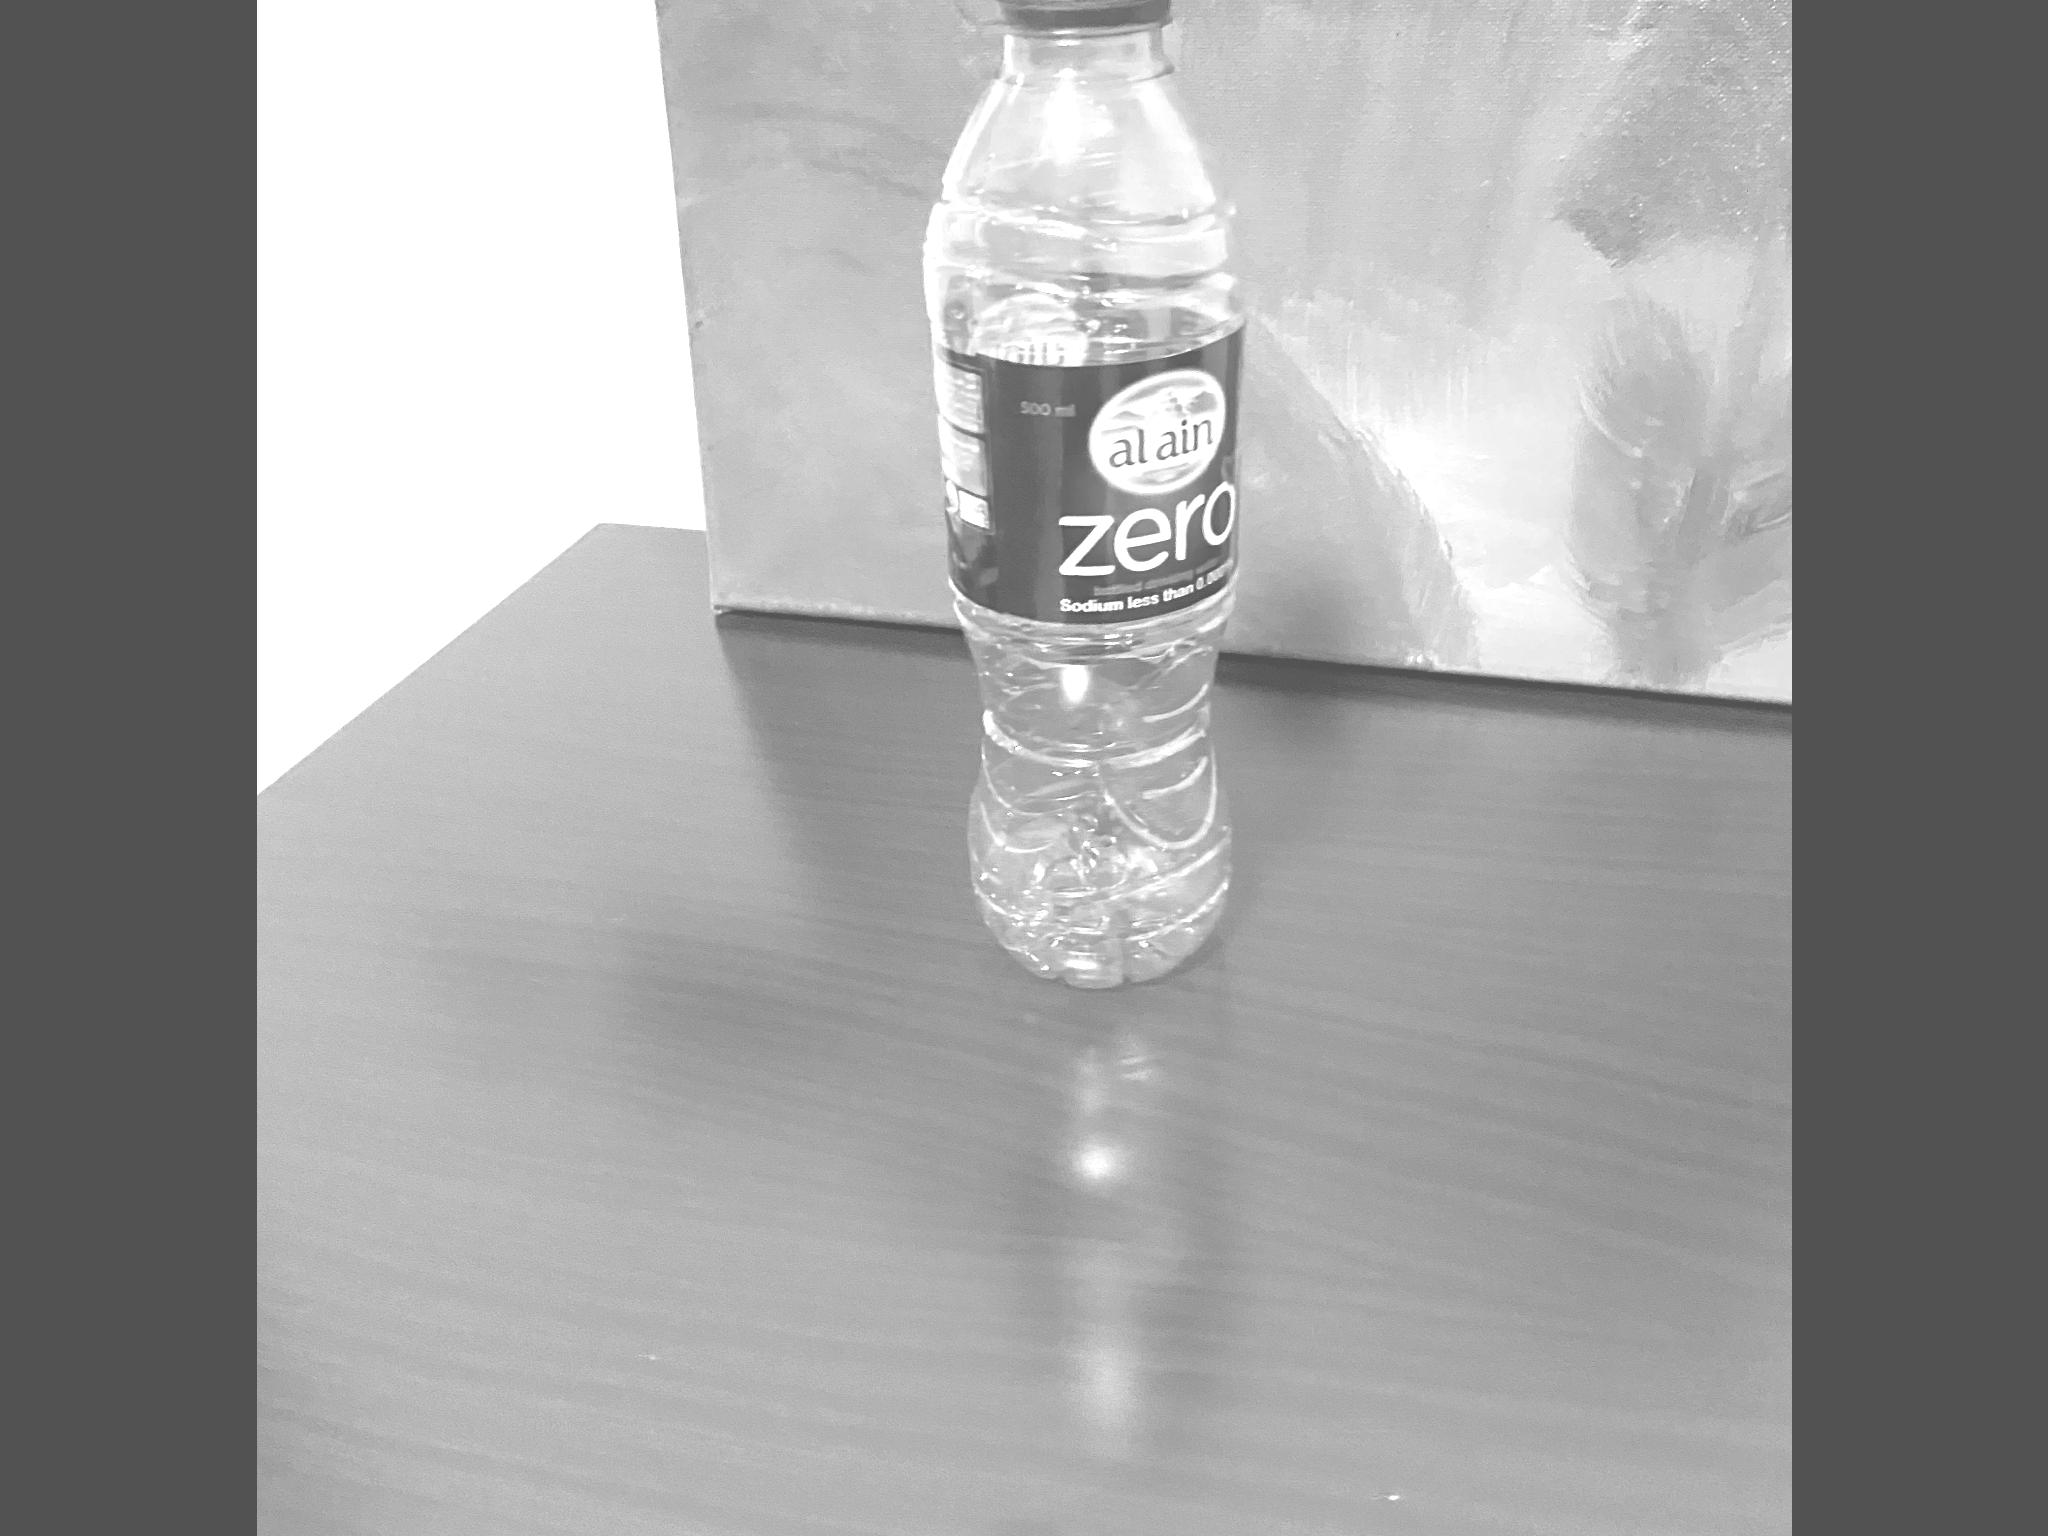bottle: (884, 0, 1258, 1020)
